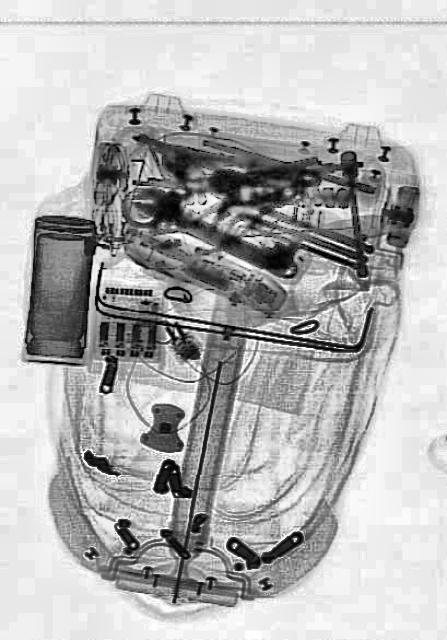Wrench: (132, 179, 300, 287)
